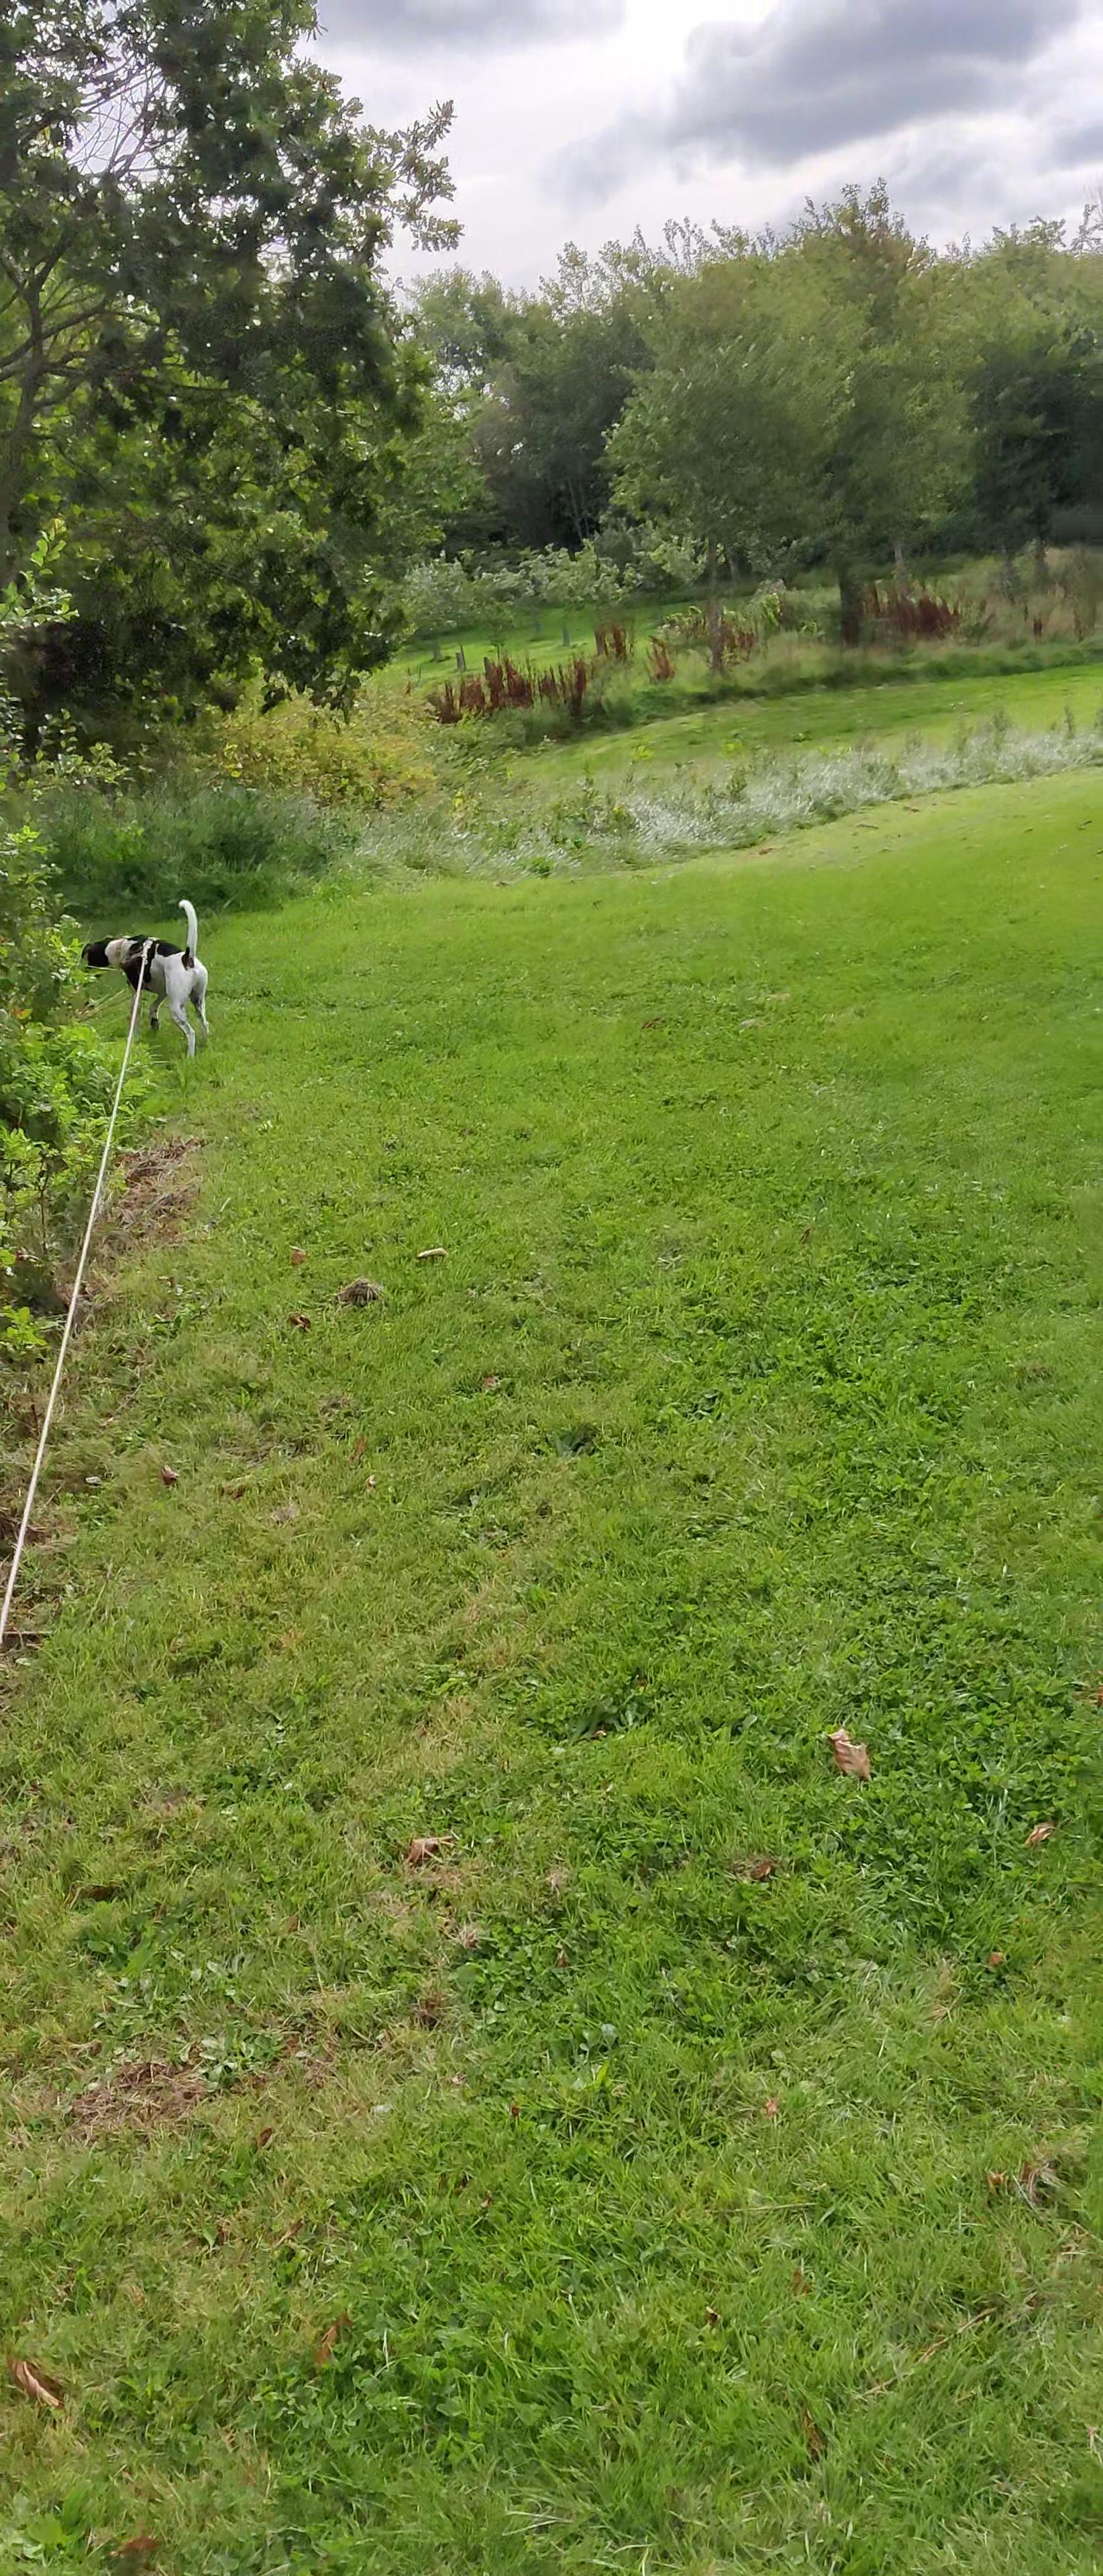Dog: (81, 897, 214, 1060)
